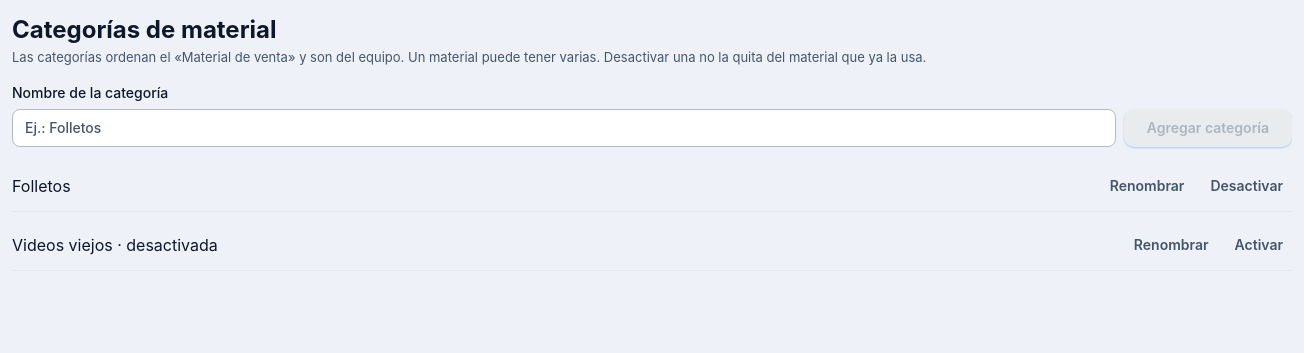
it: SalesMaterialCategories › deactivates, reactivates and renames without losing the typed name on error
Expected: the text "Folletos" is shown, [12, 174, 71, 198]
Expected: the text "Videos viejos · desactivada" is shown, [12, 232, 218, 256]
Click the button "Desactivar". click: click(1247, 186)
box: [1201, 166, 1292, 204]
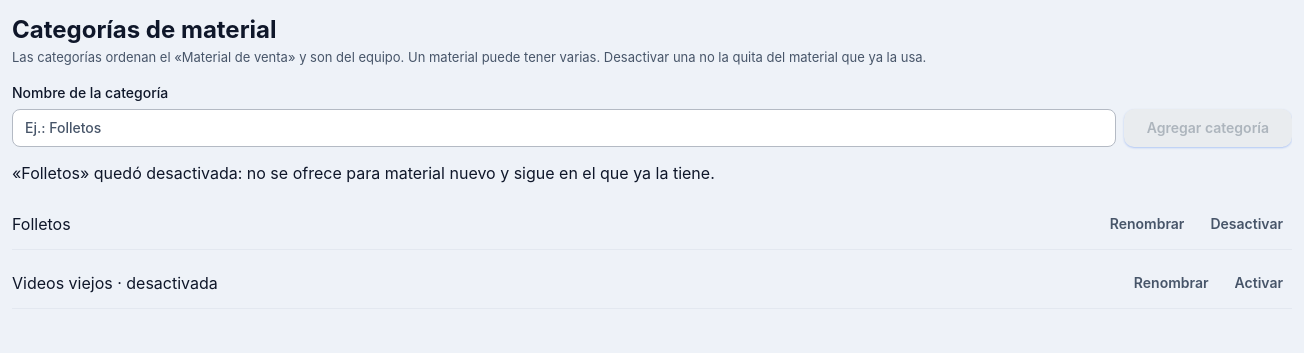
Click the button "Activar". click: click(1259, 282)
box: [1226, 264, 1292, 302]
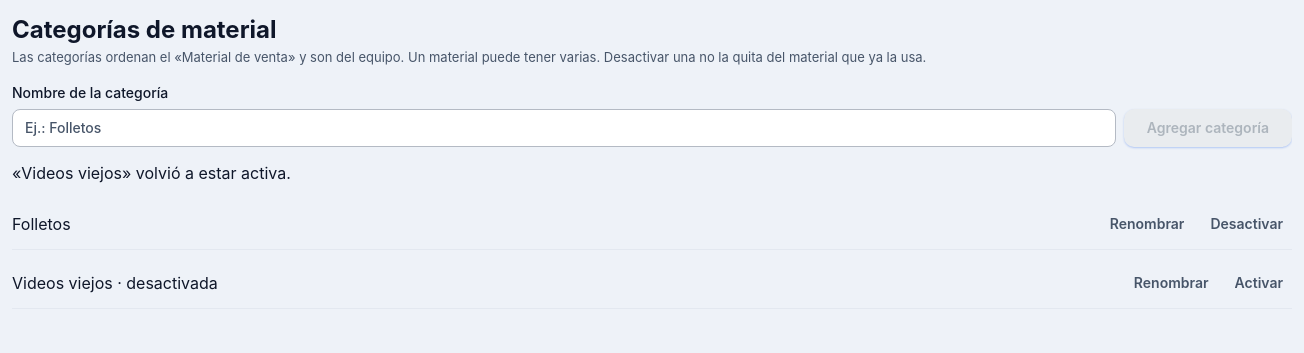
Click the button "Renombrar" in the row of "Folletos". click: click(1147, 224)
box: [1101, 204, 1193, 242]
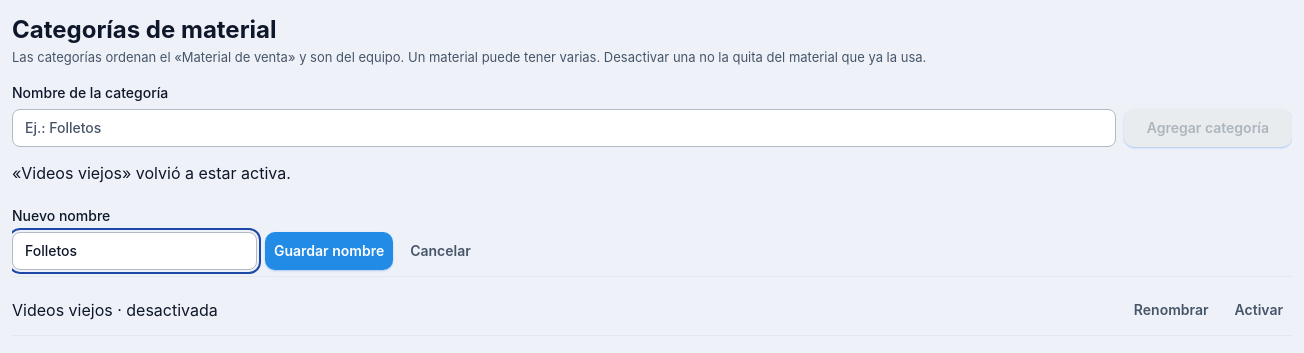
Replace the text in the field labelled "Nuevo nombre" with "Videos viejos". click: (134, 250)
box: [12, 232, 257, 270]
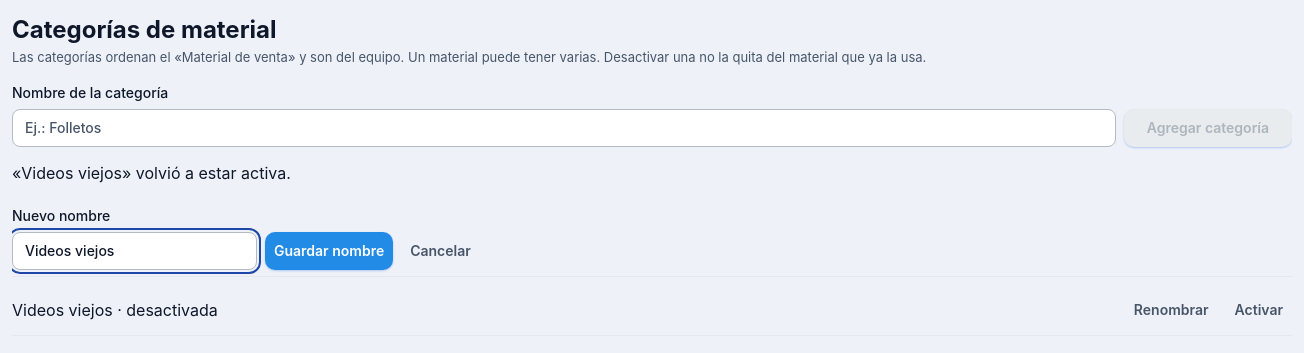
Click the button "Guardar nombre". click: click(329, 250)
box: [265, 232, 393, 270]
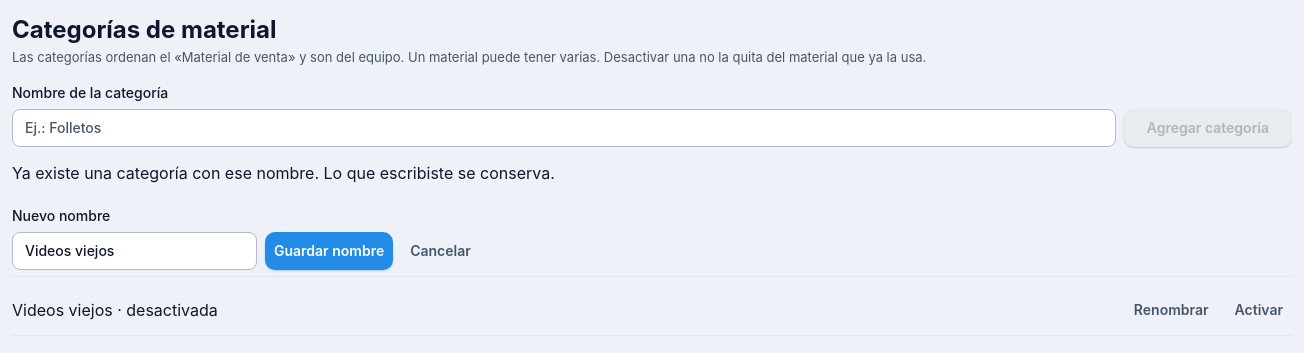
Expected: the message reads "Ya existe una categoría con ese nombre. Lo que escribiste se conserva.", [12, 162, 555, 182]
